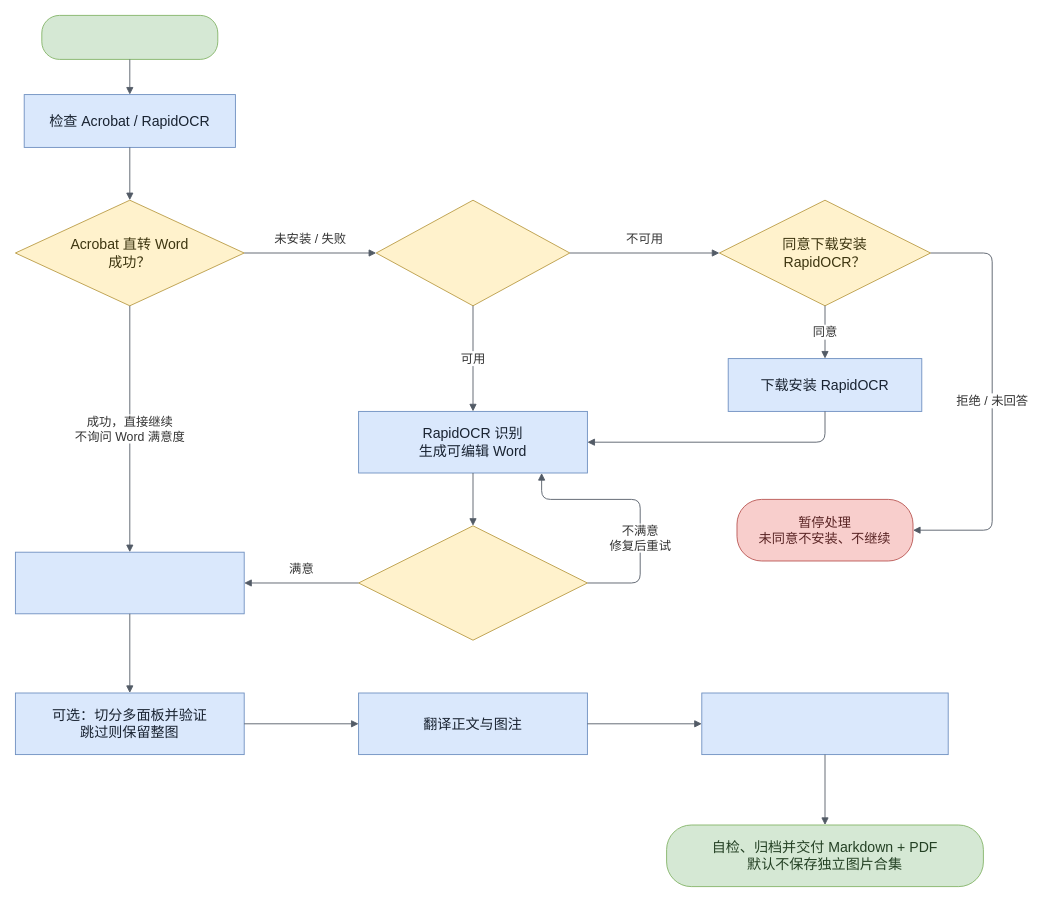
Image size: 1043x902. Some labels were removed from this diagram. The shapes that lost their labels are listed below. From the top down, each one's centre as x and y in pixels, then its label:
At [129,37]: "输入论文 PDF".
At [472,252]: "RapidOCR 可用？".
At [129,582]: "整理正文、插图与图注 缺失或错位先修复".
At [472,582]: "OCR Word 满意？ 未答复先等待".
At [824,723]: "插图归位、添加目录 将图片内嵌到文档".
